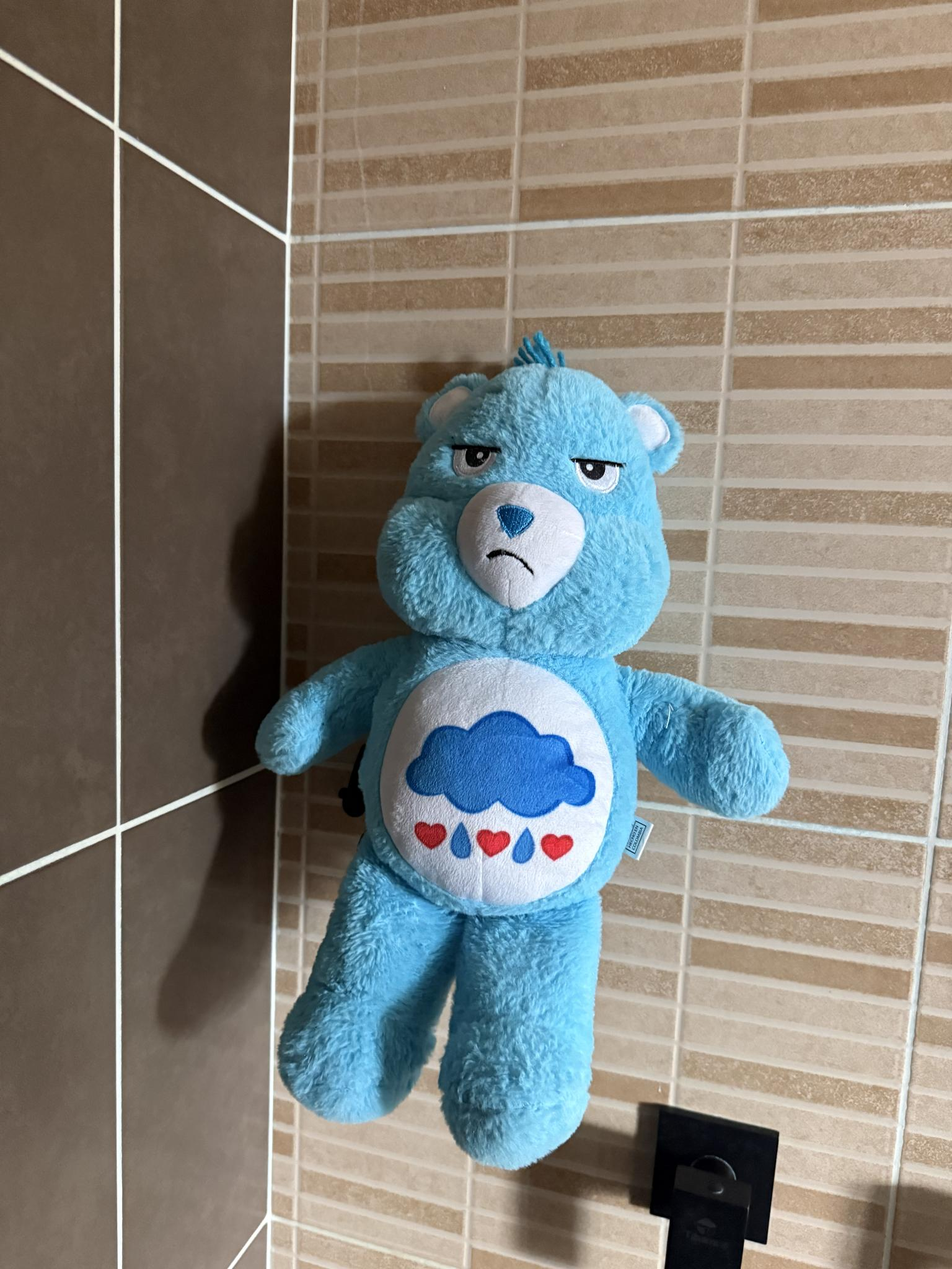peluche_Juan Jose: (282, 373, 698, 1171)
